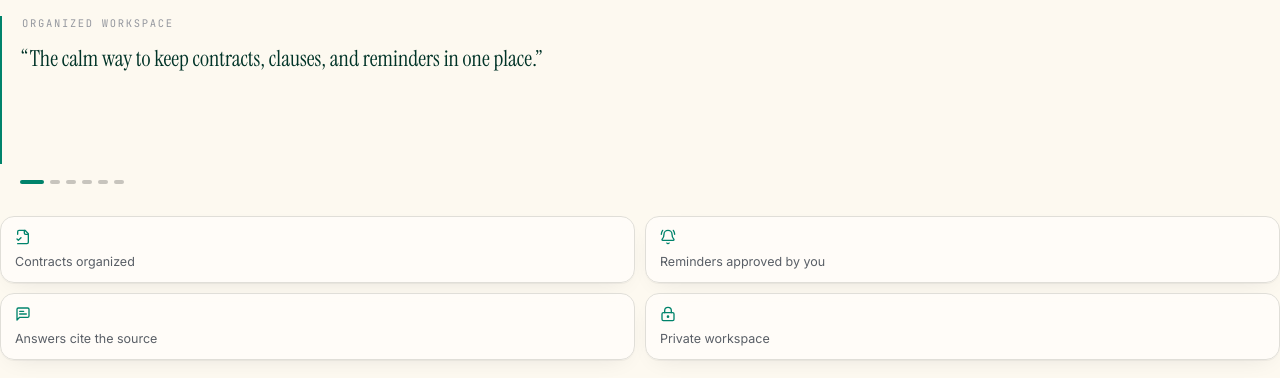
AuthTrustPanel › pauses rotation while hovered
Hover over the element that starts with "Organized workspace" at (640, 188), box [0,16,1279,360]
Expected: the text "calm way" is shown, [30,44,535,73]
Move the pointer off the element that starts with "Organized workspace"
Wait 6000 ms
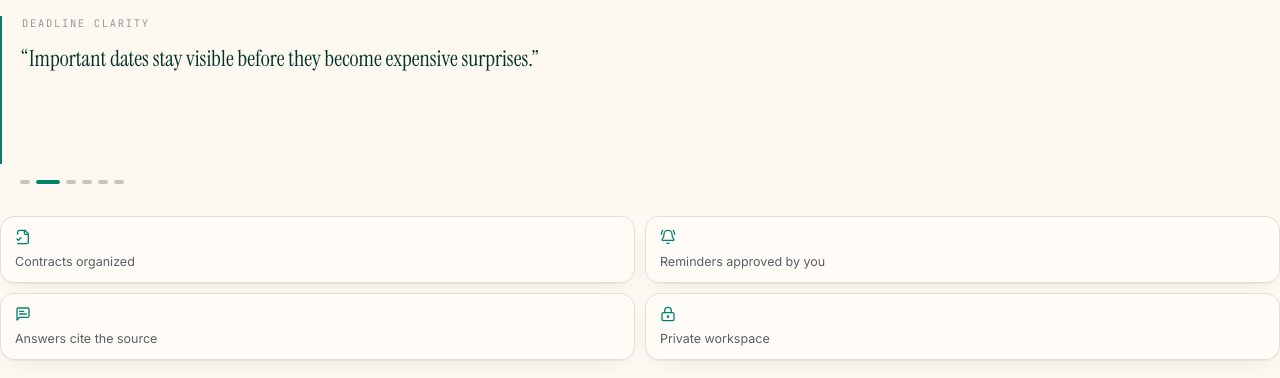
Result: the text "calm way" is gone
